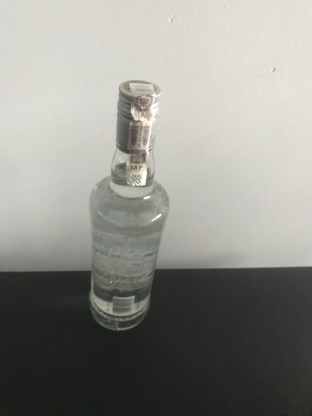nakretka: (114, 78, 162, 154)
